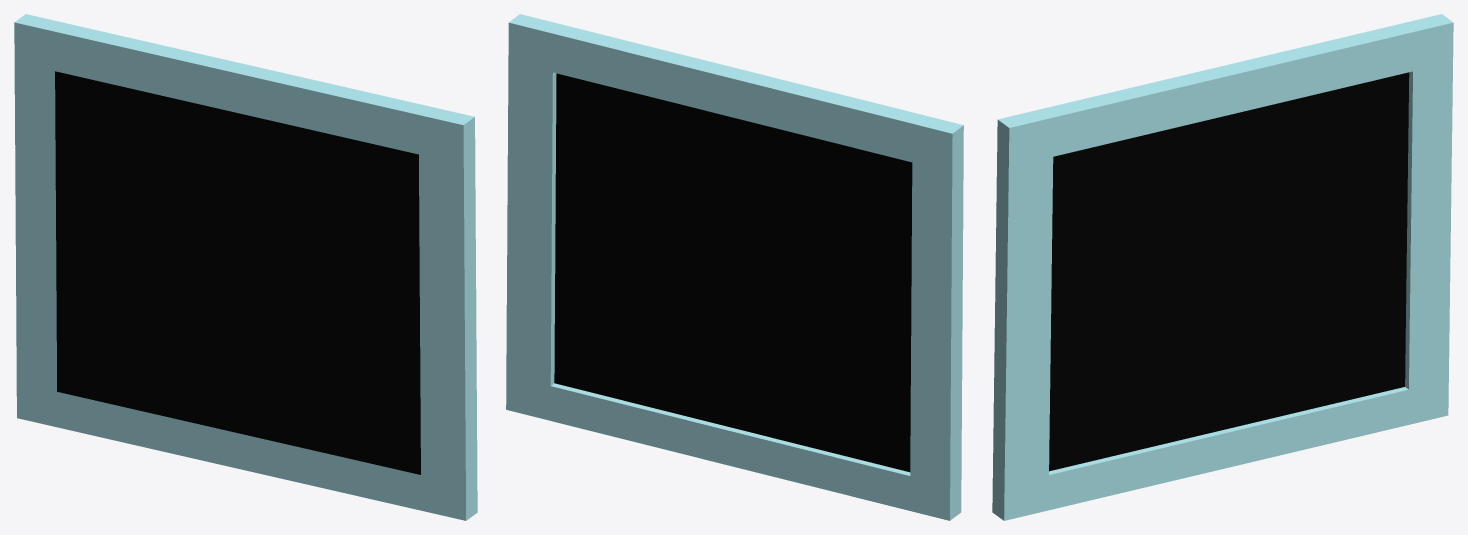
Rendered from space_window.fbx.
3 renders of one model, left to right at view 1: azimuth 30°, elevation 25°; view 2: azimuth 210°, elevation 25°; view 3: azimuth 270°, elevation 25°, orthographic.
Visible parts, largest first — view 1: Space_window; view 2: Space_window; view 3: Space_window.
Part boxes in pixels (x1,y1,x2,y2): Space_window: (14, 14, 477, 520); Space_window: (506, 14, 963, 520); Space_window: (992, 14, 1453, 520).
Bounding box in the file's own units: 64.8 × 101 × 106.
